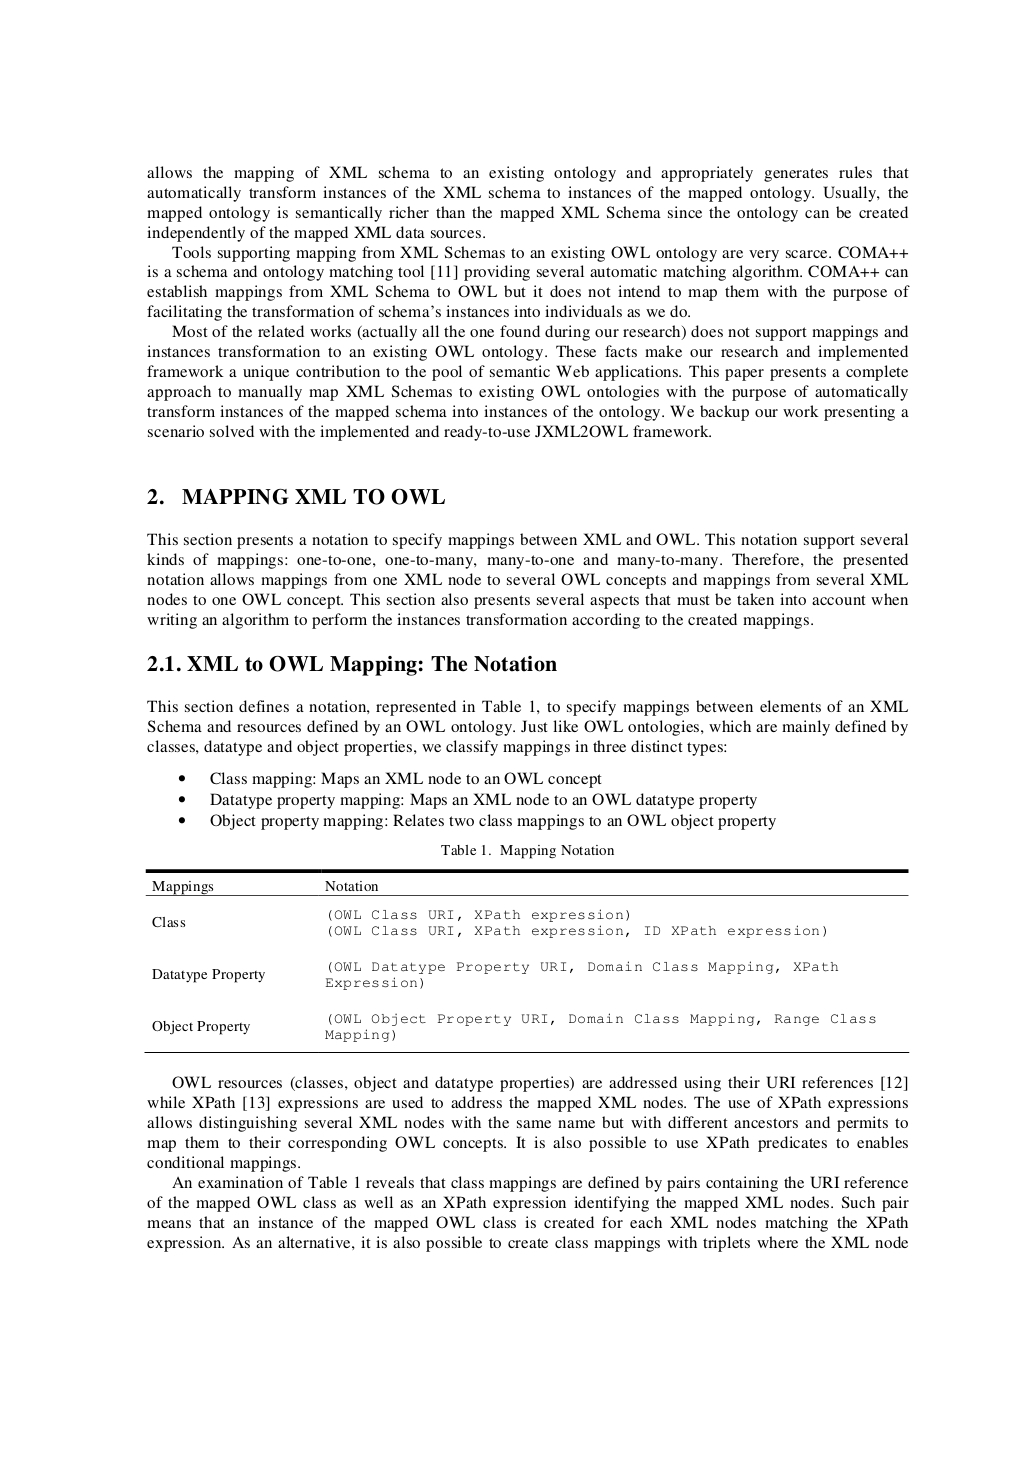Table: (144, 868, 909, 1052)
